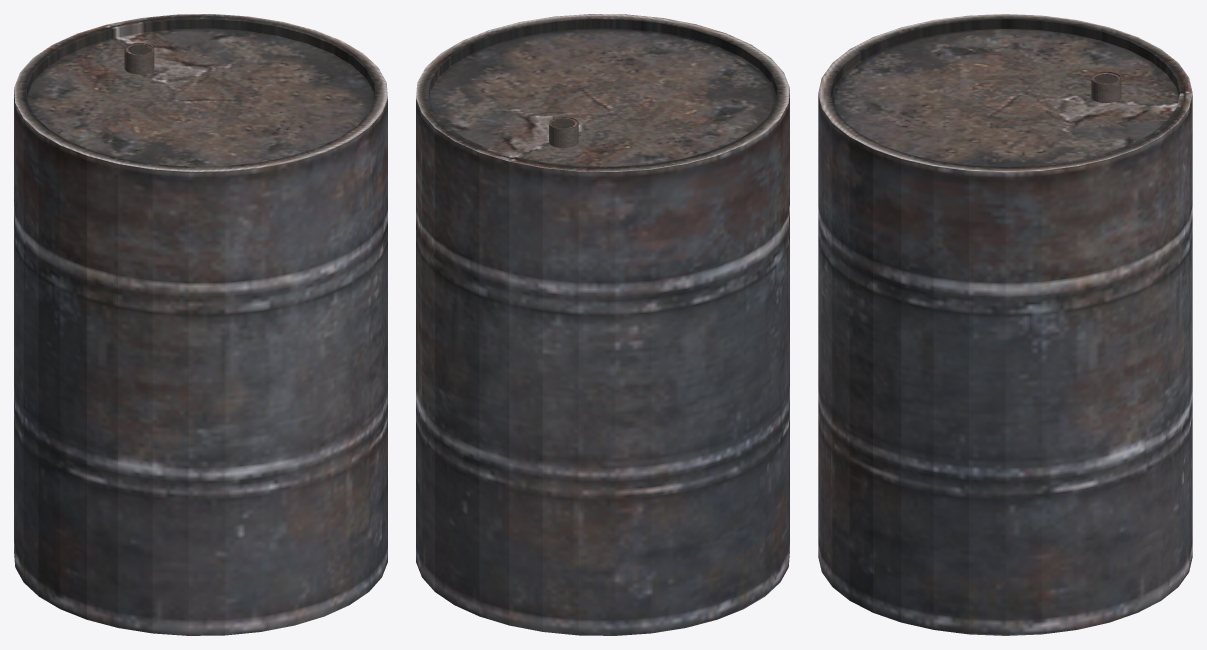
The model's file is barrel3.obj.
The picture shows the model from 3 angles, left to right: view 1: azimuth 30°, elevation 25°; view 2: azimuth 150°, elevation 25°; view 3: azimuth 270°, elevation 25°; orthographic projection.
Parts seen in each view (by area): view 1: Цилиндр.001_Цилиндр.003; view 2: Цилиндр.001_Цилиндр.003; view 3: Цилиндр.001_Цилиндр.003.
Boxes of the visible parts, x1=… form: Цилиндр.001_Цилиндр.003: x1=14, y1=14, x2=387, y2=635; Цилиндр.001_Цилиндр.003: x1=416, y1=14, x2=789, y2=635; Цилиндр.001_Цилиндр.003: x1=818, y1=14, x2=1192, y2=635.
Size of the model in its own units: 0.729 by 1.02 by 0.729.
